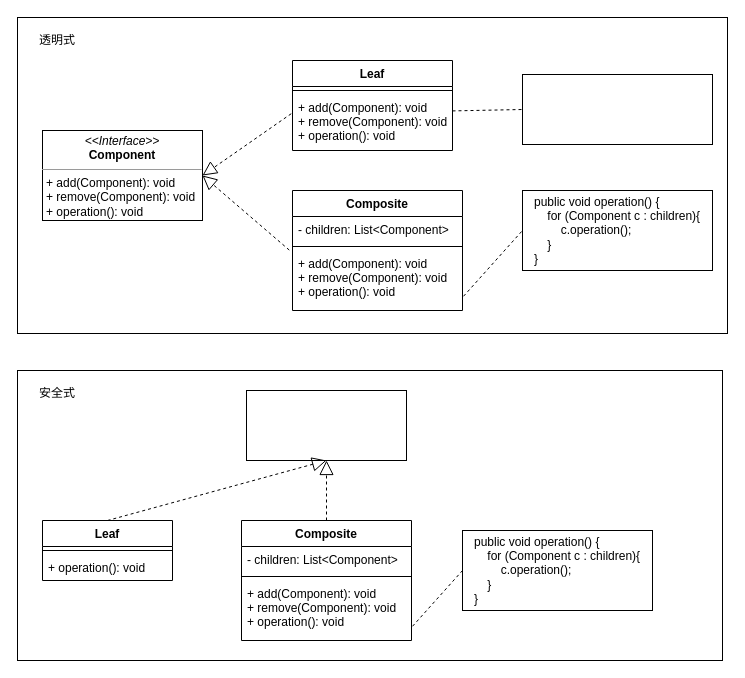
This 745x678 diagram has some shape labels left out. The shapes that lost their labels are listed below. From the top down, each one's centre as x and y in pixels, then its label:
point (617, 109): Leaf节点 add, remove为空方法，好处是无需区分叶子和分支节点
point (326, 425): <<Interface>> Component + operation(): void
